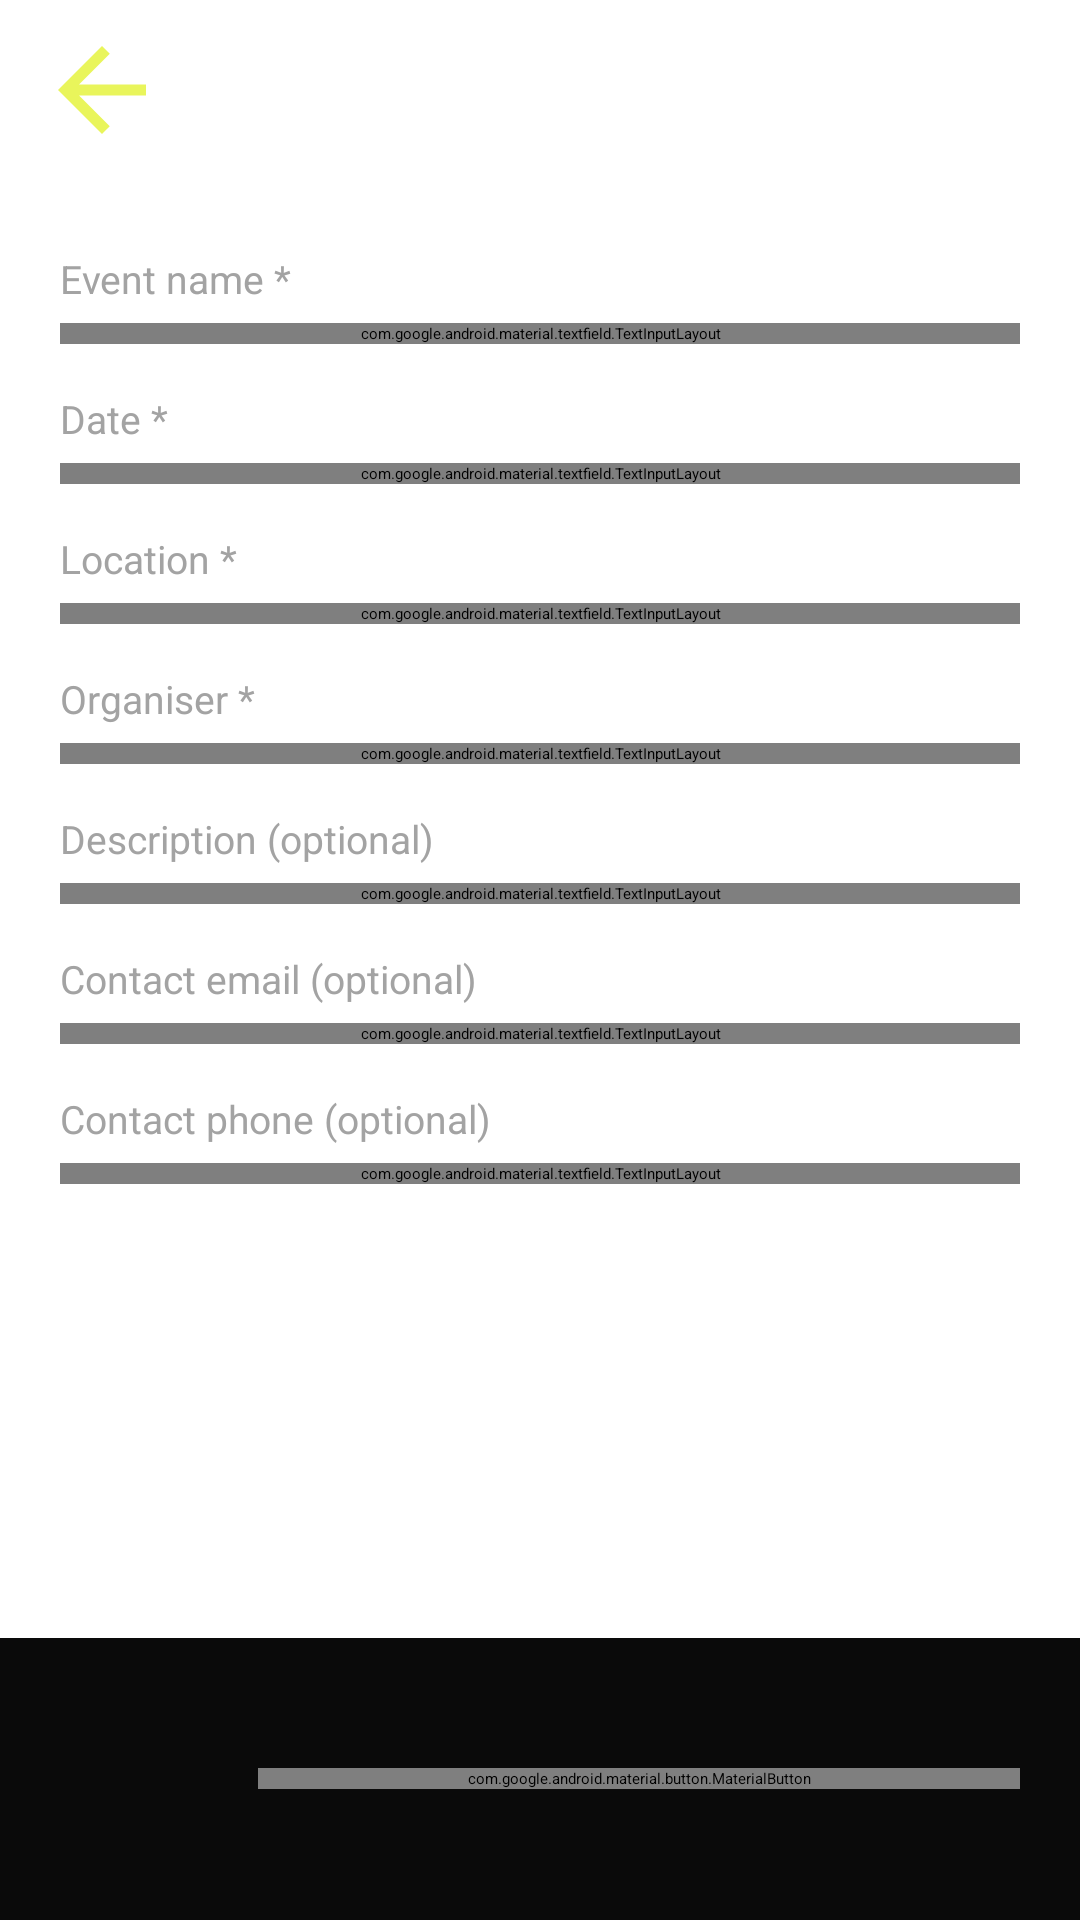

Named icons in this screenshot (1080px x 1920px) and their centers, point (x, y):
Back: point (102, 90)
